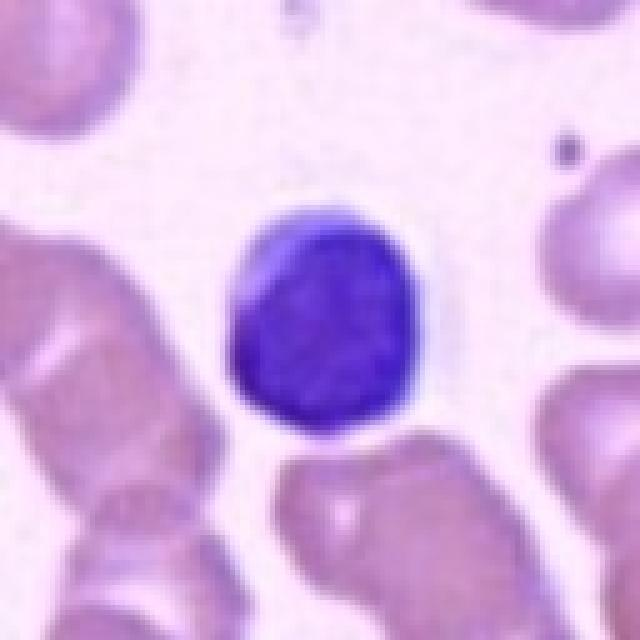lympho: (220, 199, 424, 440)
